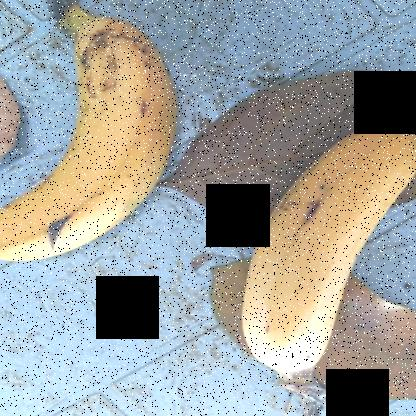freshripe: (227, 117, 415, 382)
ripe: (1, 4, 197, 282)
